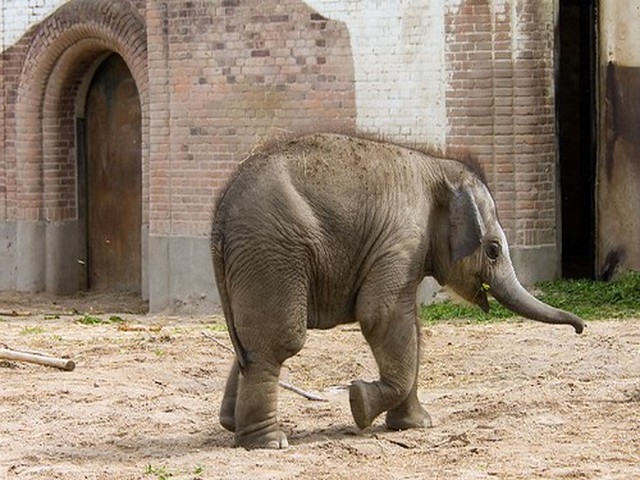Elephant: (210, 121, 591, 448)
